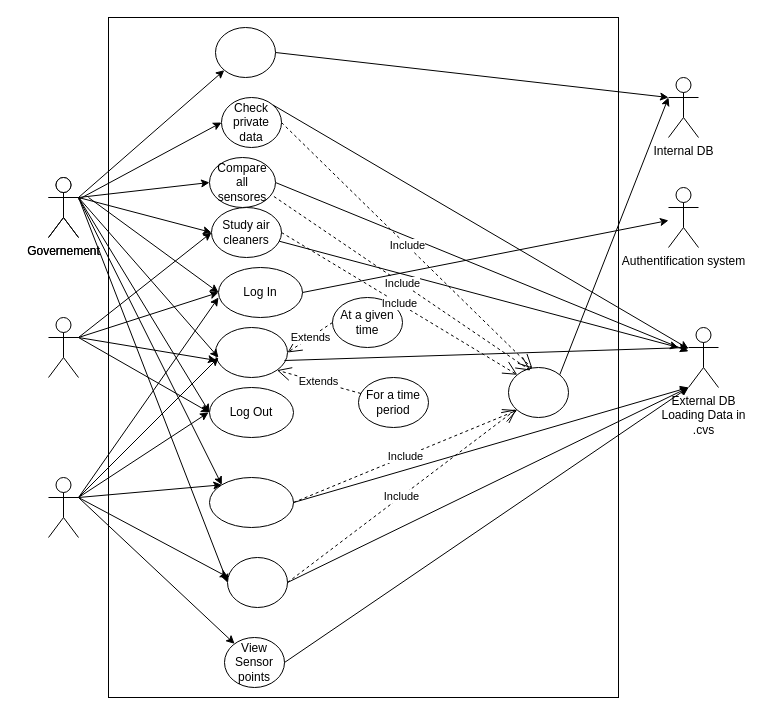
The diagram is 763 pixels wide and 715 high, and some of its shapes have lost their labels. The centre of each missing label's shape, as x and y in pixels:
"Air cleaner owner" belongs at pixel 63 347.
"Air quality at one point" belongs at pixel 257 582.
"Analyse one sensor's data" belongs at pixel 251 502.
"Award points" belongs at pixel 538 392.
"Mark User" belongs at pixel 245 52.
"Mean air quality in area" belongs at pixel 251 352.
"User sensor" belongs at pixel 63 507.
